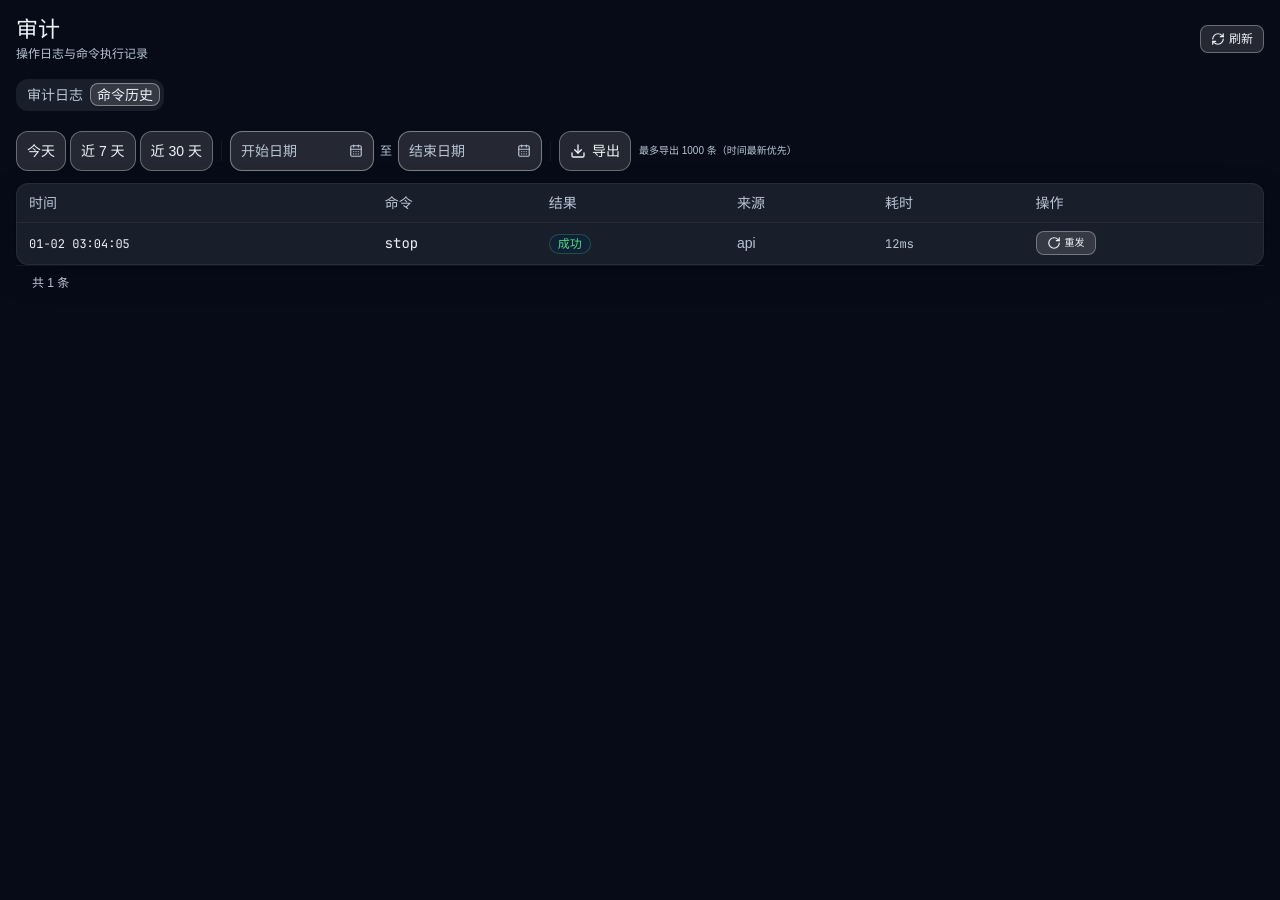
Test: AuditPage 命令重发 › 点「重发」只弹确认，不直接下发命令
Click the button with aria-label "重发命令 stop" at (1066, 243), box [1036, 231, 1096, 255]
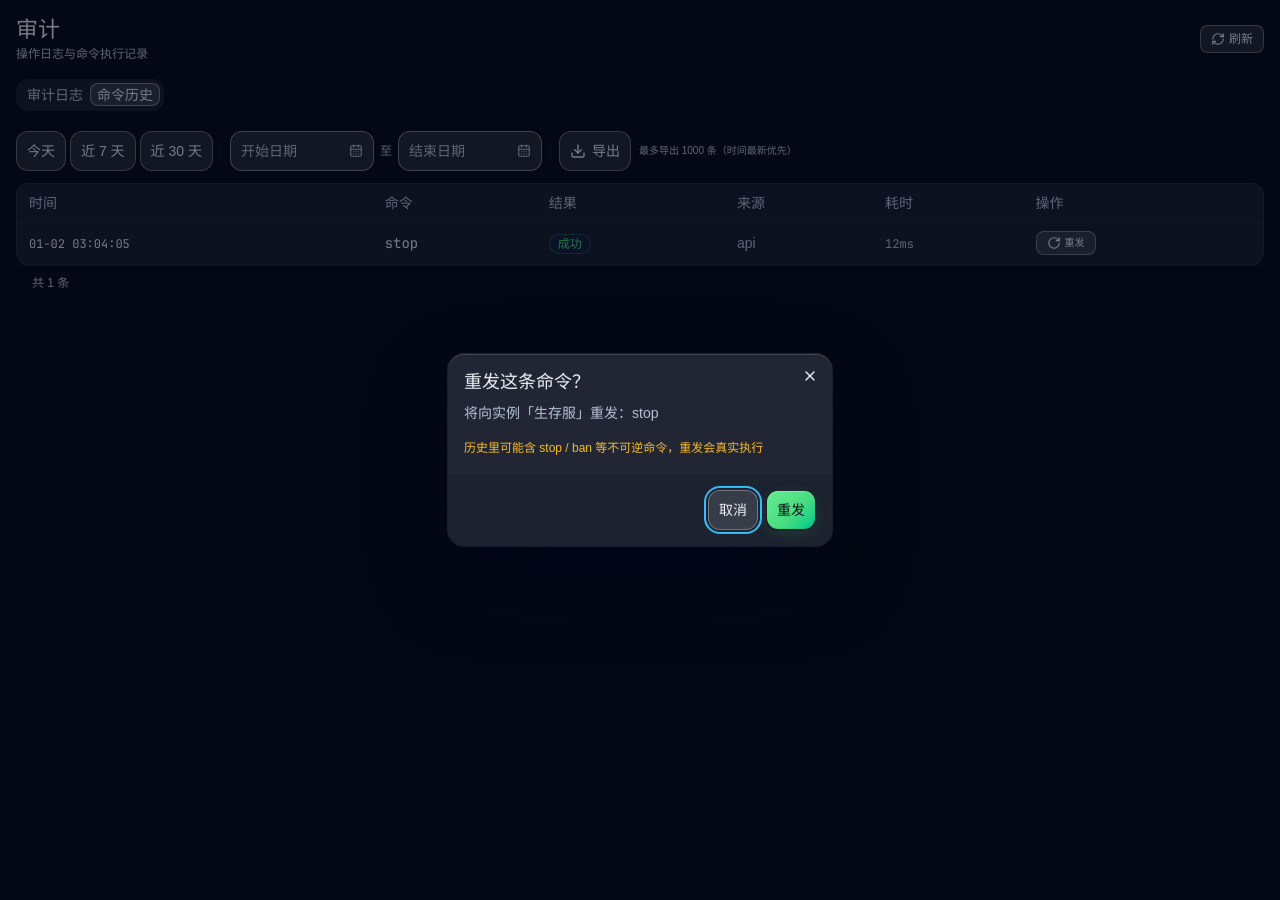
Result: the heading "重发这条命令？" is shown at [464, 372, 590, 392]
